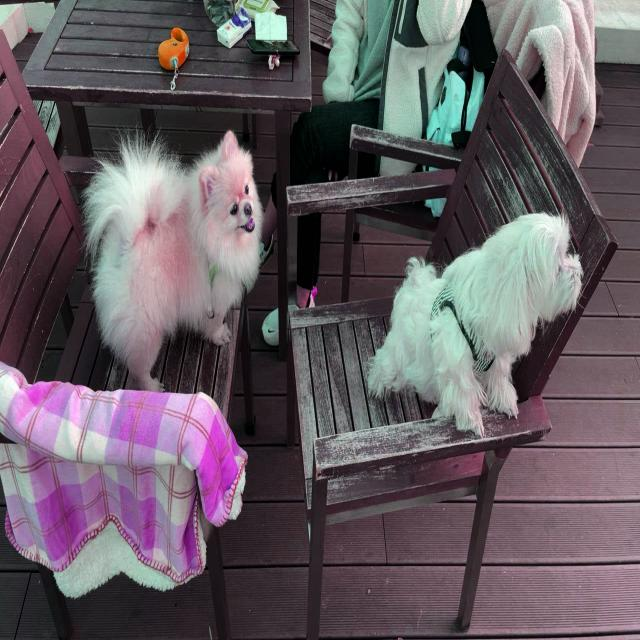Dog: (366, 211, 583, 440), (84, 128, 264, 394)
